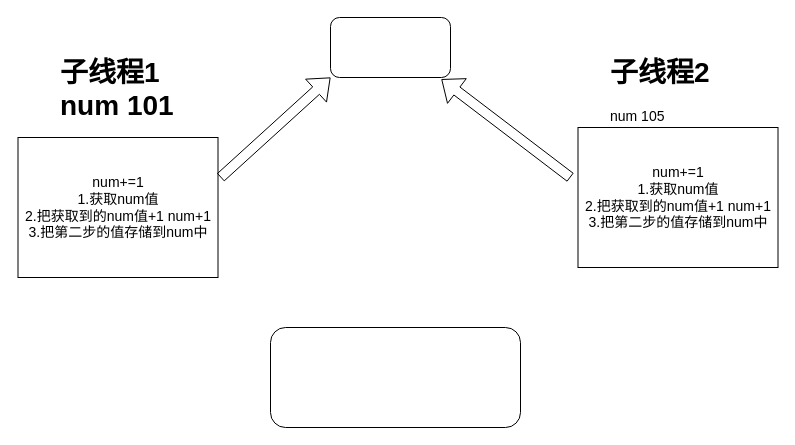
Image size: 795x445. Some labels were removed from this diagram. The centre of each missing label's shape, as x and y in pixels:
"cpu" belongs at [395,377].
"num=101" belongs at [390,47].
